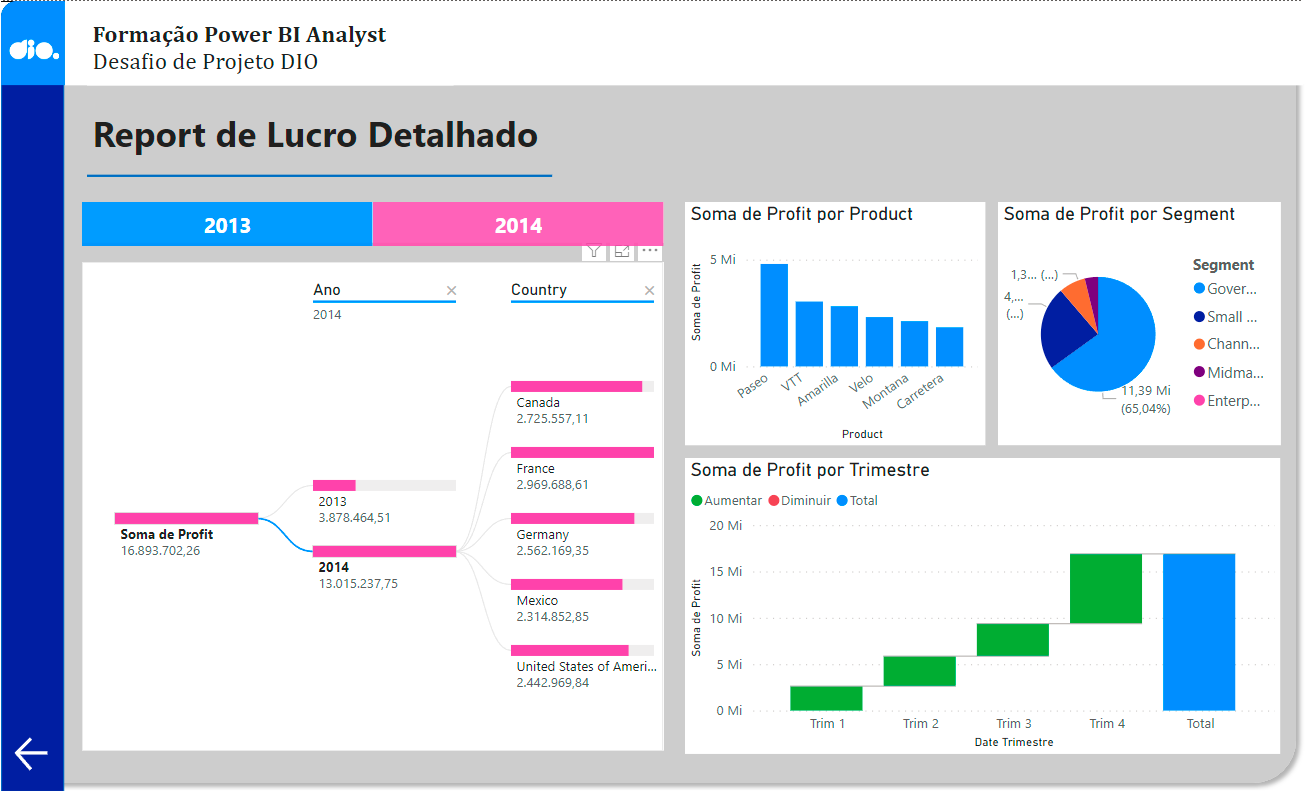

The page's visual inventory and layout, read from the dashboard file:
{"tool":"powerbi","page":{"name":"Página 2","canvas":[1280,720],"ordinal":1},"visuals":[{"type":"shape","box":[93.7,0,1186.2,720],"z":0,"group":"g1"},{"type":"group","id":"g1","title":"Fundo","box":[93.3,0,1186.7,720],"z":0},{"type":"shape","box":[93.7,0,57.5,720],"z":1000,"group":"g1"},{"type":"shape","box":[167.1,182.9,528.6,37.1],"z":1000},{"type":"shape","box":[93.3,0,58.3,76.7],"z":2000,"group":"g1"},{"type":"shape","box":[171.4,237.1,524.3,444.3],"z":2000},{"type":"shape","box":[151.6,0,1128.3,76.7],"z":3000,"group":"g1"},{"type":"textbox","box":[171.7,11.7,333.3,65],"z":3000},{"type":"shape","box":[715.7,182.9,272.9,221.4],"z":4000},{"type":"shape","box":[1000,182.9,257.1,221.4],"z":5000},{"type":"shape","box":[171.4,148.6,422.9,21.4],"z":6000},{"type":"textbox","box":[171.4,92.9,425.7,55.7],"z":7000},{"type":"actionButton","box":[101.4,664.3,100,40],"z":8000},{"type":"shape","box":[715.7,415.7,541.4,268.6],"z":9000},{"type":"decompositionTreeVisual","title":"Árvore 2014","fields":{"Analyze":["Sum(financials.Profit)"],"ExplainBy":["financials.Date.Variation.Hierarquia de datas.Ano","financials.Country"]},"box":[167.1,237.1,528.6,444.3],"z":11000},{"type":"actionButton","title":"2013","box":[167.1,182.9,264.3,40],"z":12000},{"type":"actionButton","title":"2014","box":[431.4,182.9,264.3,40],"z":13000},{"type":"textbox","box":[715.7,182.9,272.9,221.4],"z":13001},{"type":"columnChart","fields":{"Category":["financials.Product"],"Y":["Sum(financials.Profit)"]},"box":[715.7,182.9,271.4,221.4],"z":13002},{"type":"pieChart","fields":{"Category":["financials.Segment"],"Y":["Sum(financials.Profit)"]},"box":[1000,182.9,257.1,221.4],"z":13003},{"type":"waterfallChart","fields":{"Category":["financials.Date.Variation.Hierarquia de datas.Trimestre"],"Y":["Sum(financials.Profit)"]},"box":[715.7,415.7,541.4,268.6],"z":13004},{"type":"image","box":[96.4,20,54.5,48.2],"z":13005}]}

Visuals, with their boxes on the page's 1280x720 design canvas (x1, y1, x2, y2). These are canvas units, not pixel positions in the 1305x791 screenshot, which may show the page scaled, cropped or inside an application window:
shape: [94, 0, 1280, 720]
"Fundo" group: [93, 0, 1280, 720]
shape: [94, 0, 151, 720]
shape: [167, 183, 696, 220]
shape: [93, 0, 152, 77]
shape: [171, 237, 696, 681]
shape: [152, 0, 1280, 77]
textbox: [172, 12, 505, 77]
shape: [716, 183, 989, 404]
shape: [1000, 183, 1257, 404]
shape: [171, 149, 594, 170]
textbox: [171, 93, 597, 149]
actionButton: [101, 664, 201, 704]
shape: [716, 416, 1257, 684]
"Árvore 2014" decompositionTreeVisual: [167, 237, 696, 681]
"2013" actionButton: [167, 183, 431, 223]
"2014" actionButton: [431, 183, 696, 223]
textbox: [716, 183, 989, 404]
columnChart - financials.Product x Sum(financials.Profit): [716, 183, 987, 404]
pieChart - financials.Segment x Sum(financials.Profit): [1000, 183, 1257, 404]
waterfallChart - financials.Date.Variation.Hierarquia de datas.Trimestre x Sum(financials.Profit): [716, 416, 1257, 684]
image: [96, 20, 151, 68]
